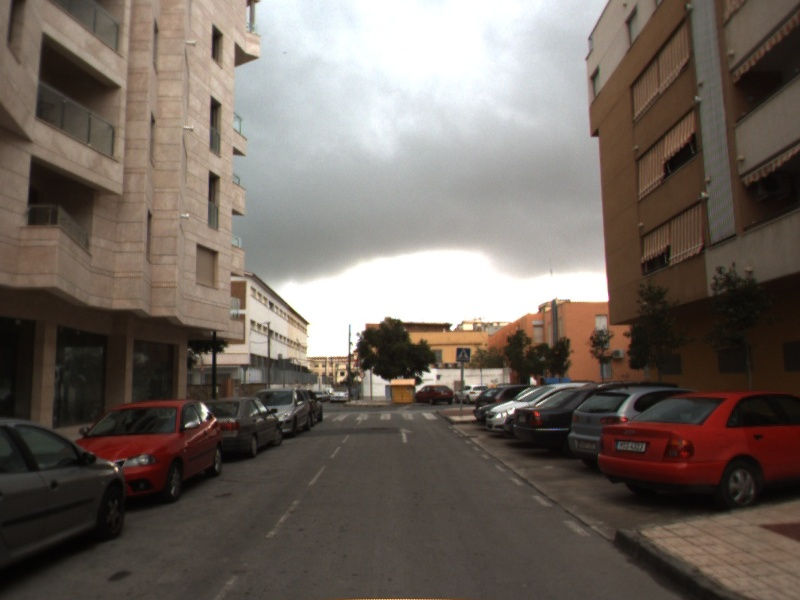STRAIGHT: (395, 425, 415, 446)
